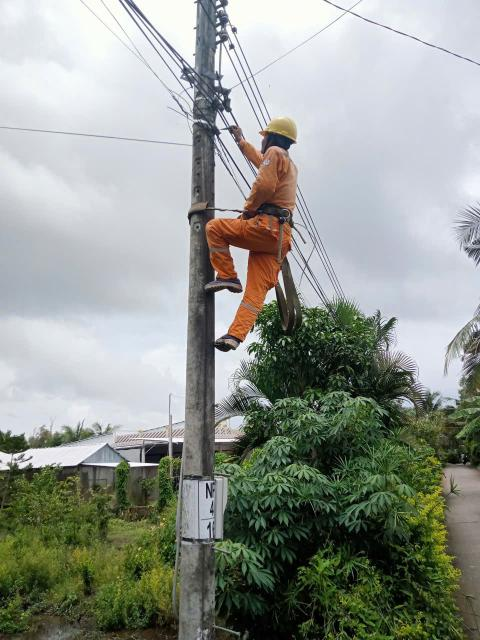harness: (242, 202, 301, 221)
helmet: (244, 114, 306, 147)
shoes: (195, 274, 254, 295), (207, 323, 243, 352)
